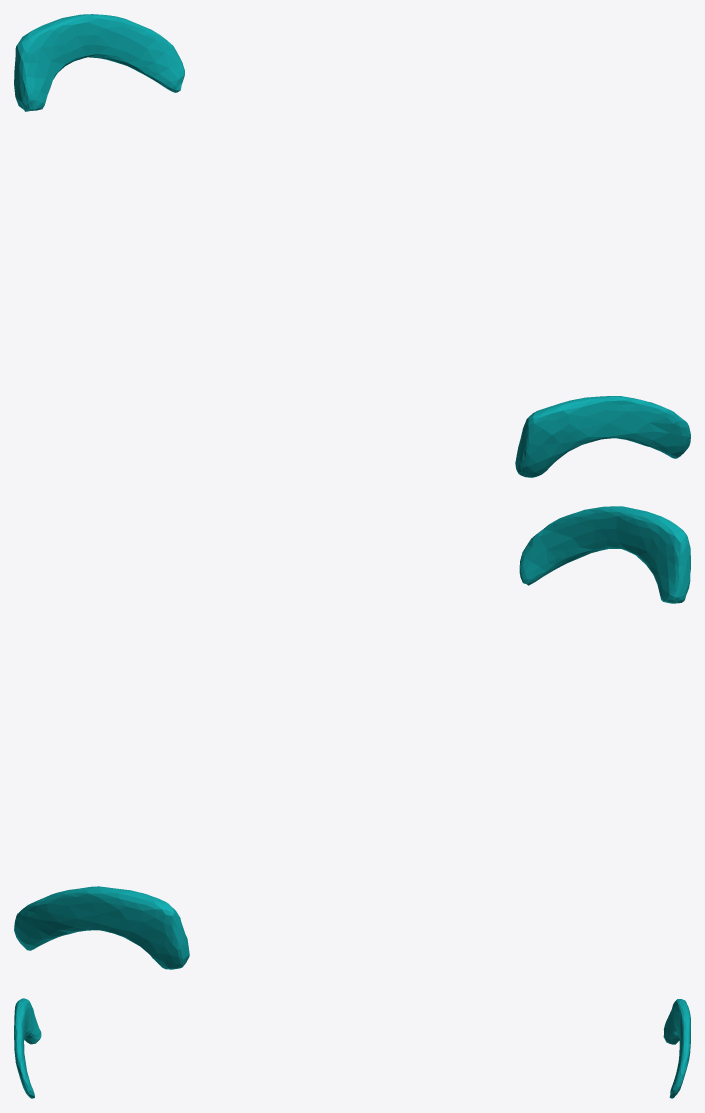
3 renders of one model, top to bottom at view 1: azimuth 30°, elevation 25°; view 2: azimuth 150°, elevation 25°; view 3: azimuth 270°, elevation 25°, orthographic. The views are drawn at different scales.
Parts seen in each view (by area): view 1: 755.obj; view 2: 755.obj; view 3: 755.obj.
Part boxes in pixels (x1,y1,x2,y2): 755.obj: (14,14,690,477); 755.obj: (14,506,690,969); 755.obj: (14,998,690,1098).
Bounding box in the file's own units: 1858 × 962 × 10033.
